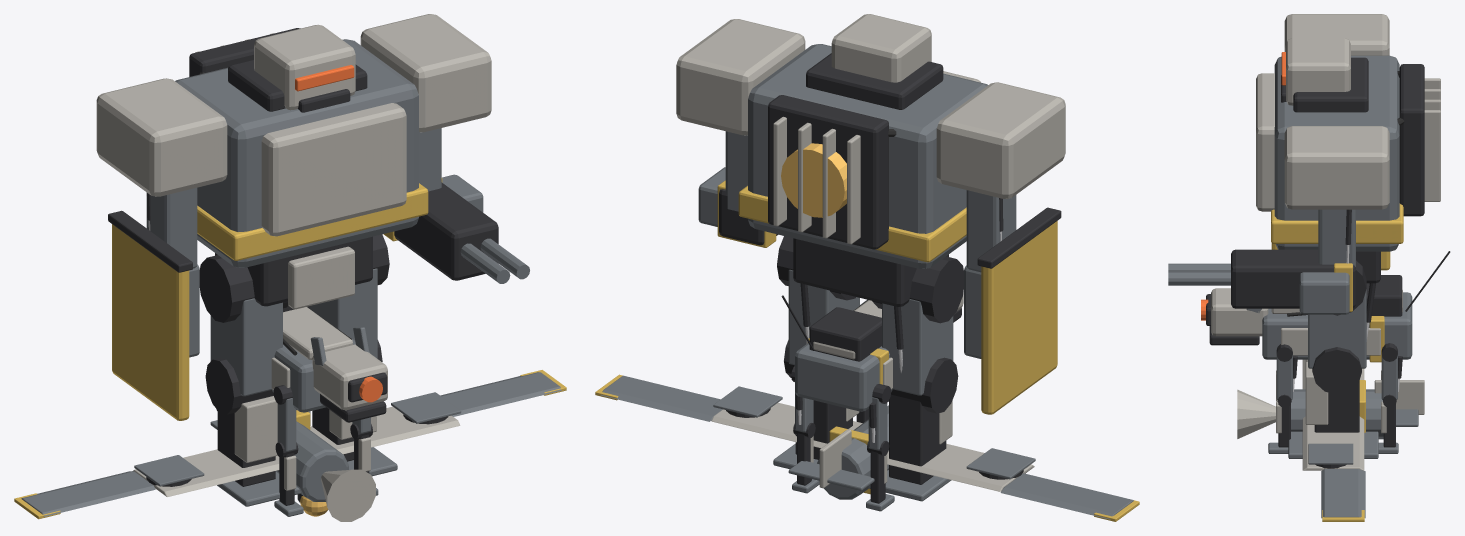
File: enemies.glb
The picture shows the model from 3 angles, left to right: view 1: azimuth 30°, elevation 25°; view 2: azimuth 150°, elevation 25°; view 3: azimuth 270°, elevation 25°; orthographic projection. The views are drawn at different scales.
Parts seen in each view (by area): view 1: warden_chest, warden_upperL, warden_shield, warden_upperR, warden_gun, wlegL_thighm, wlegL_shinm, warden_helm, warden_pelvm, gull_fus, hound_headm, hound_chassis (+10 smaller); view 2: warden_chest, warden_upperL, warden_shield, warden_upperR, hound_chassis, wlegL_thighm, wlegL_shinm, warden_helm, warden_pelvm, gull_fus, gull_w1R, wlegR_thighm (+10 smaller); view 3: warden_chest, warden_upperR, warden_gun, hound_chassis, wlegR_shinm, gull_fus, warden_helm, warden_upperL, wlegR_thighm, gull_w1L, hound_headm, gull_w2L (+5 smaller).
Part boxes in pixels (box(x1,y1,x2,y2)): warden_chest: box(175, 28, 428, 267); warden_upperL: box(96, 78, 227, 268); warden_shield: box(108, 210, 199, 420); warden_upperR: box(360, 14, 491, 191); warden_gun: box(383, 174, 529, 283); wlegL_thighm: box(199, 255, 288, 396); wlegL_shinm: box(205, 358, 301, 506); warden_helm: box(254, 24, 355, 112); warden_pelvm: box(215, 236, 372, 309); gull_fus: box(210, 410, 375, 521); hound_headm: box(310, 326, 387, 422); hound_chassis: box(271, 305, 369, 412); warden_chest: box(738, 44, 987, 268); warden_upperL: box(936, 82, 1065, 272); warden_shield: box(964, 207, 1061, 414); warden_upperR: box(676, 19, 805, 211); hound_chassis: box(781, 295, 892, 411); wlegL_thighm: box(872, 256, 963, 395); wlegL_shinm: box(868, 357, 958, 501); warden_helm: box(831, 14, 931, 82); warden_pelvm: box(793, 238, 948, 306); gull_fus: box(788, 405, 888, 499); gull_w1R: box(887, 443, 1035, 491); wlegR_thighm: box(777, 236, 859, 365); warden_chest: box(1256, 55, 1440, 251); warden_upperR: box(1284, 126, 1389, 266); warden_gun: box(1168, 249, 1355, 314); hound_chassis: box(1262, 251, 1450, 362); wlegR_shinm: box(1288, 347, 1378, 458); gull_fus: box(1237, 380, 1424, 439); warden_helm: box(1281, 38, 1350, 105); warden_upperL: box(1284, 14, 1389, 55); wlegR_thighm: box(1308, 260, 1375, 368); gull_w1L: box(1302, 416, 1364, 470); hound_headm: box(1206, 288, 1268, 345); gull_w2L: box(1321, 469, 1365, 521).
Bounding box in the file's own units: 4.24 × 3.56 × 2.26.
